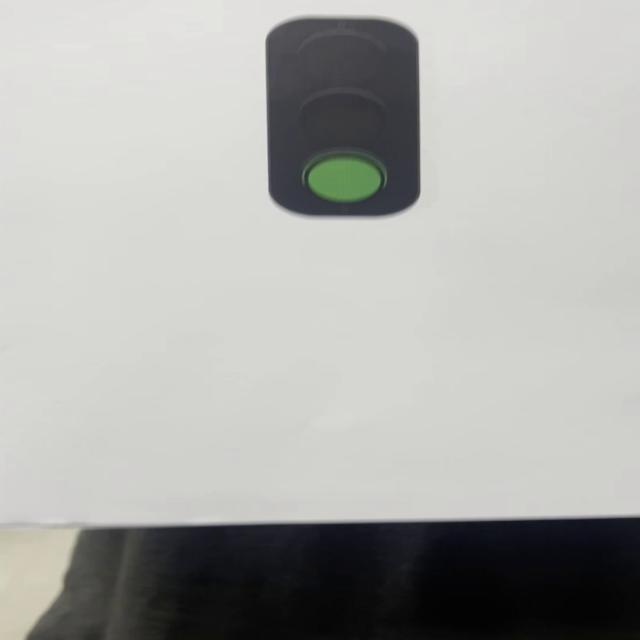green: (265, 16, 421, 215)
